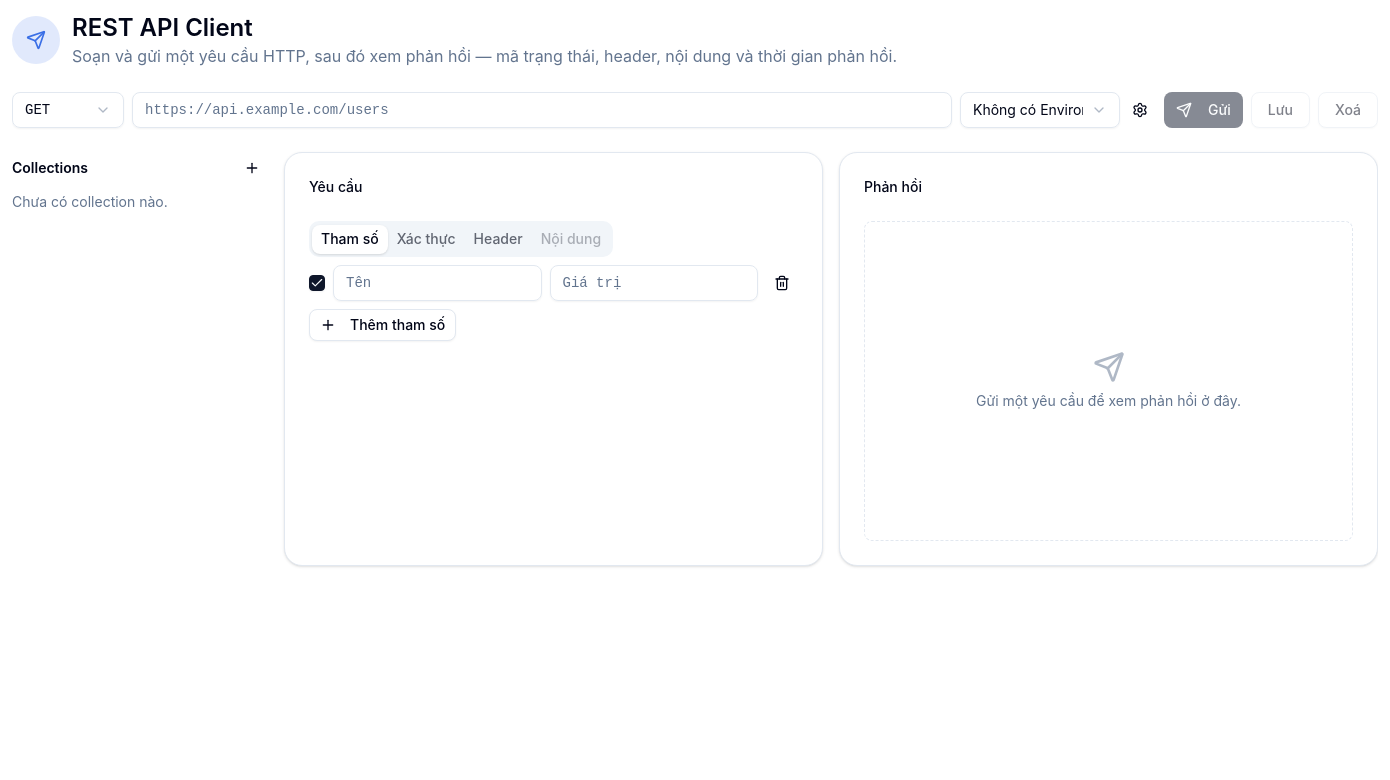
Test: RestApiClientScreen › disables the Body tab for GET and enables it for POST
Expected: the tab "Nội dung" is disabled, [532, 224, 610, 254]
Click the dropdown named "Phương thức HTTP" at (68, 110), box [12, 92, 124, 128]
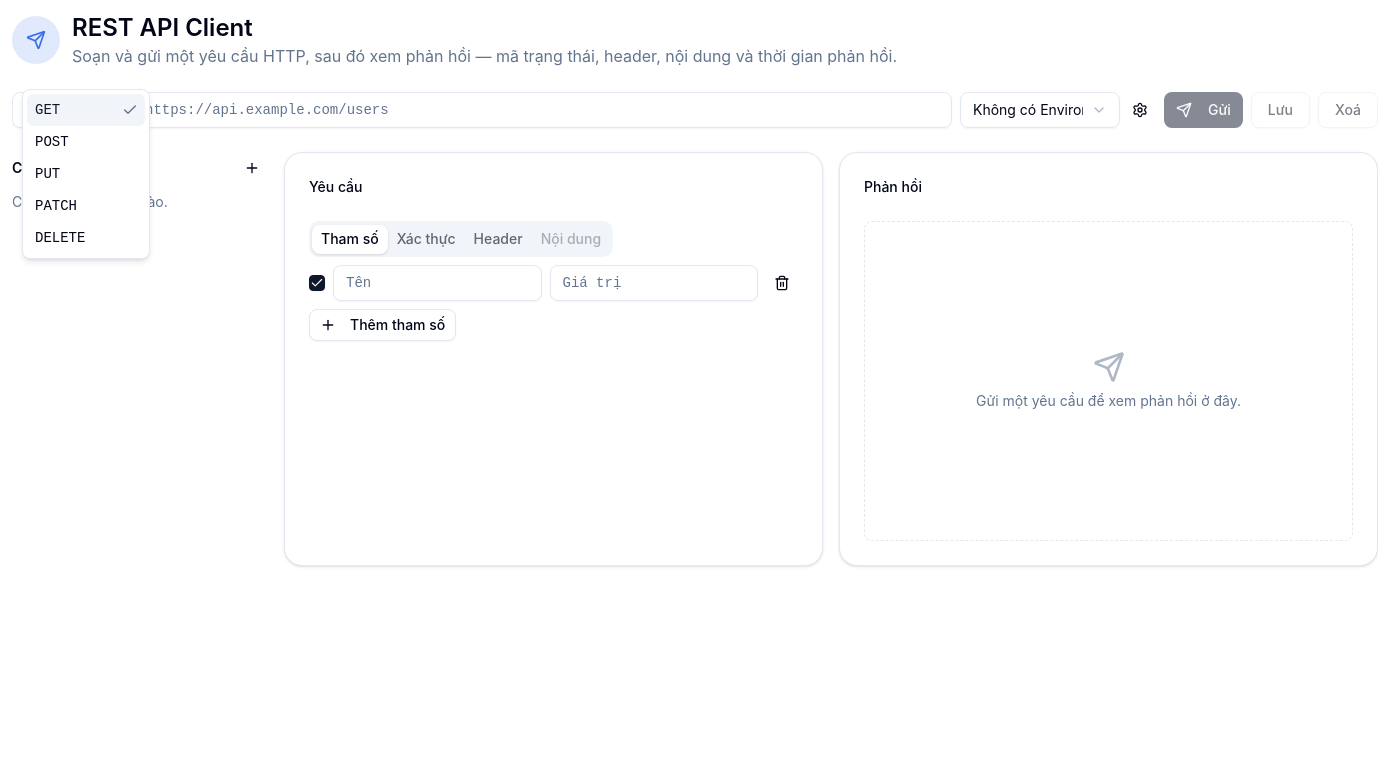
Click the option "POST" at (52, 142), box [35, 134, 69, 150]
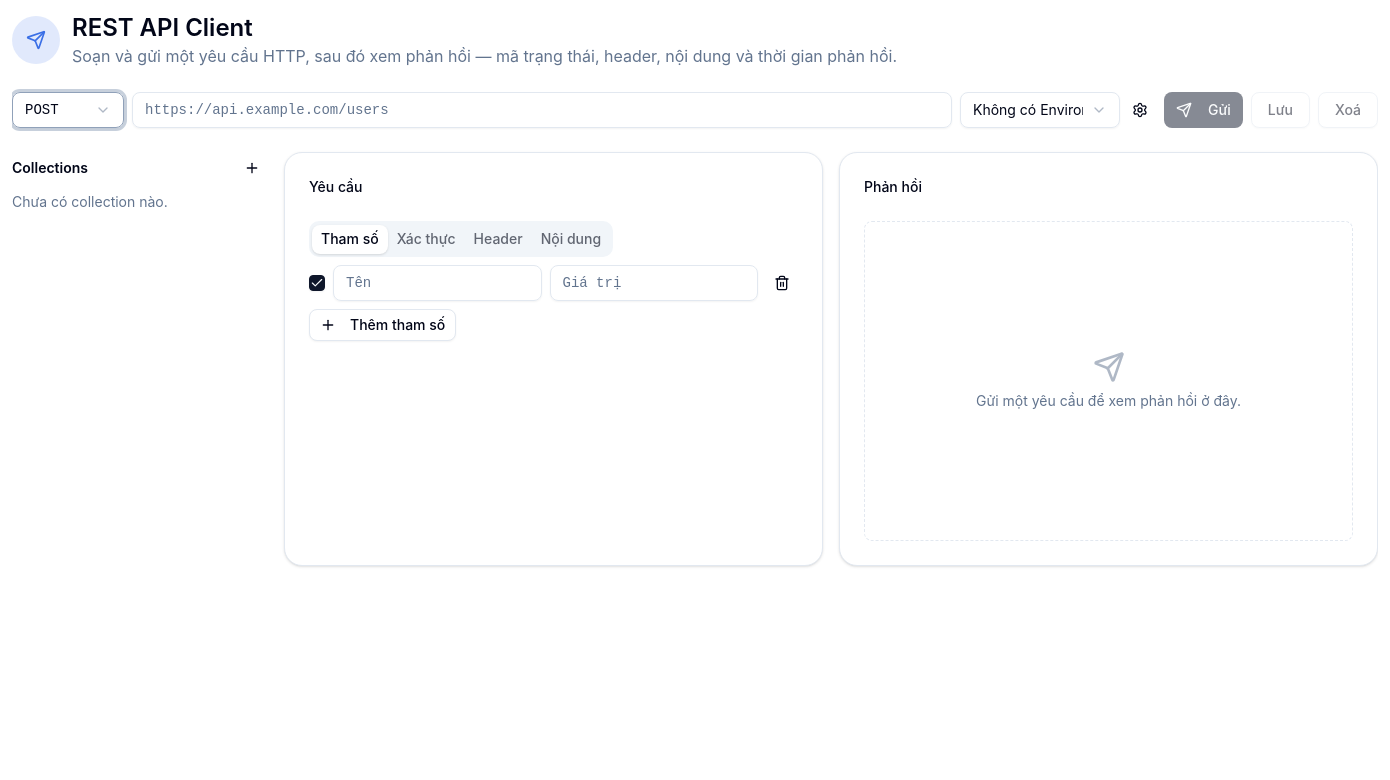
Result: the tab "Nội dung" is enabled at [532, 224, 610, 254]
